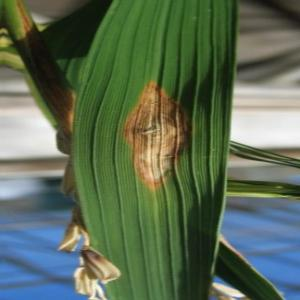Rice_Blast: (107, 65, 201, 197)
